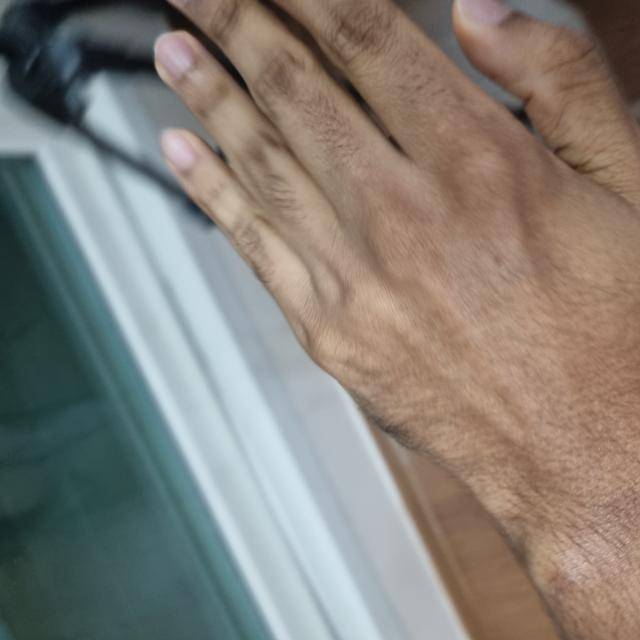Paper: (107, 157, 640, 639)
